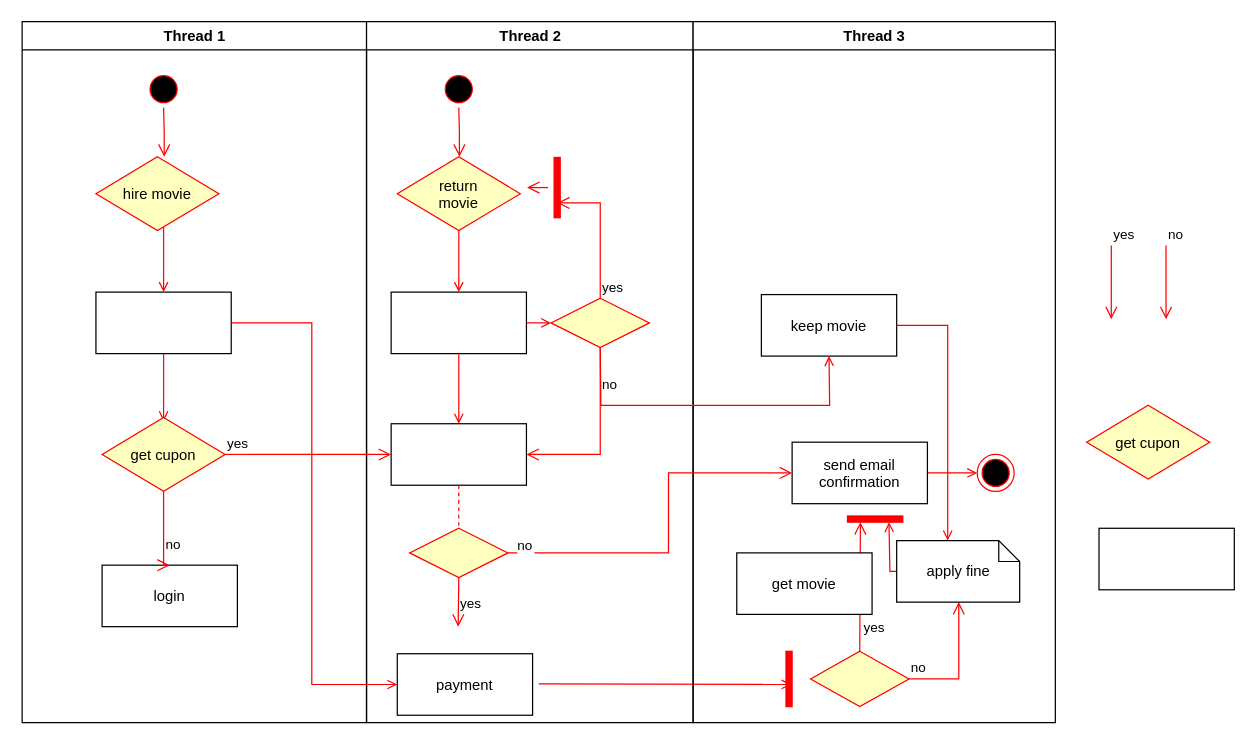
The diagram is 1256 pixels wide and 744 high, and some of its shapes have lost their labels. Each missing label, with the centre of its shape:
"check date" goes at pixel 458 454.
"expired date" goes at pixel 458 552.
"insert movie" goes at pixel 458 322.
"payment confirmed" goes at pixel 859 678.
"process command" goes at pixel 1166 558.
"queue empty" goes at pixel 599 322.
"select movie" goes at pixel 163 322.
